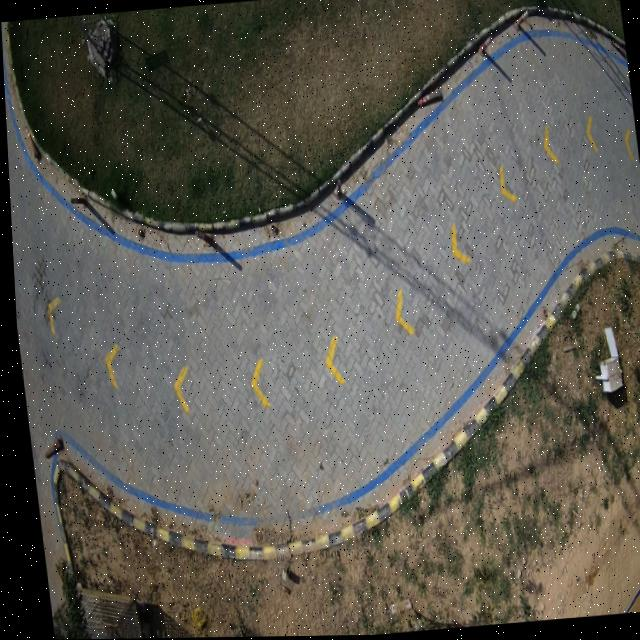No Car: (1, 0, 640, 640)
